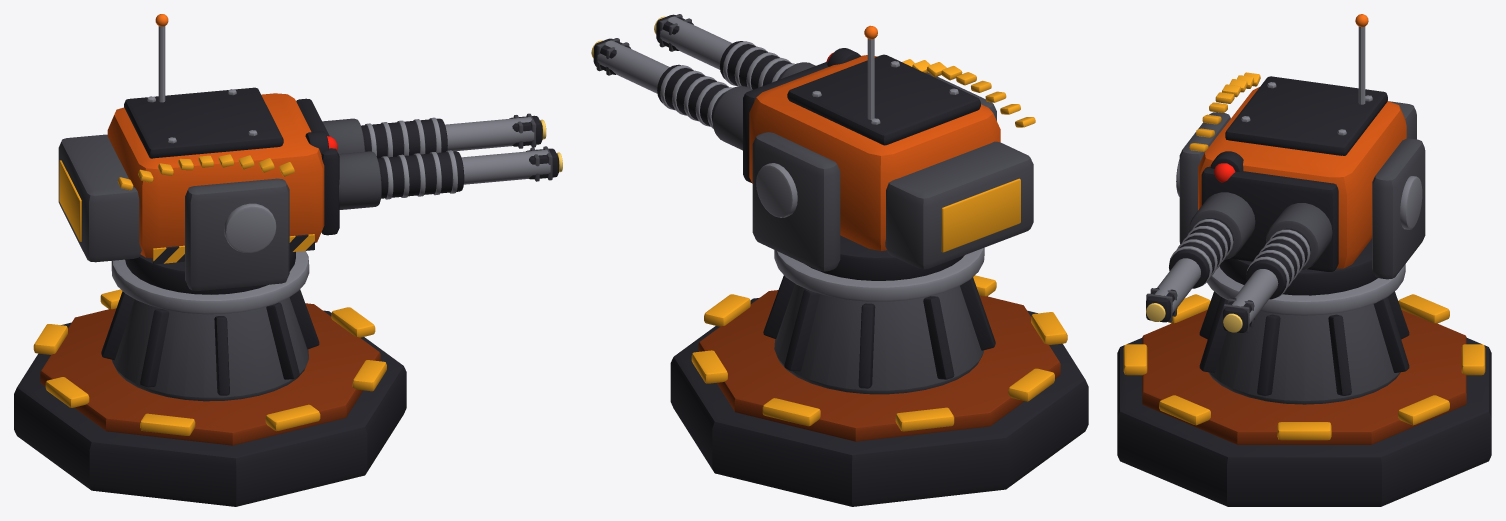
The model's file is Turret.obj.
3 views of the same model, side by side, from view 1: azimuth 30°, elevation 25°; view 2: azimuth 150°, elevation 25°; view 3: azimuth 270°, elevation 25° (orthographic). The views are drawn at different scales.
Visible parts, largest first — view 1: Turret; view 2: Turret; view 3: Turret.
Part boxes in pixels (left/top/right/bottom): Turret: left=14, top=14, right=562, bottom=506; Turret: left=591, top=14, right=1088, bottom=506; Turret: left=1117, top=14, right=1491, bottom=506.
Size of the model in its own units: 1.61 by 1.33 by 1.11.
